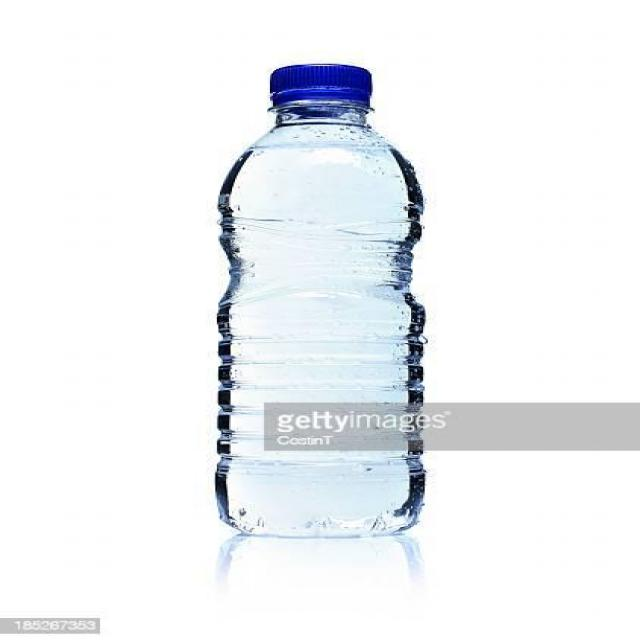bottle: (187, 44, 444, 570)
